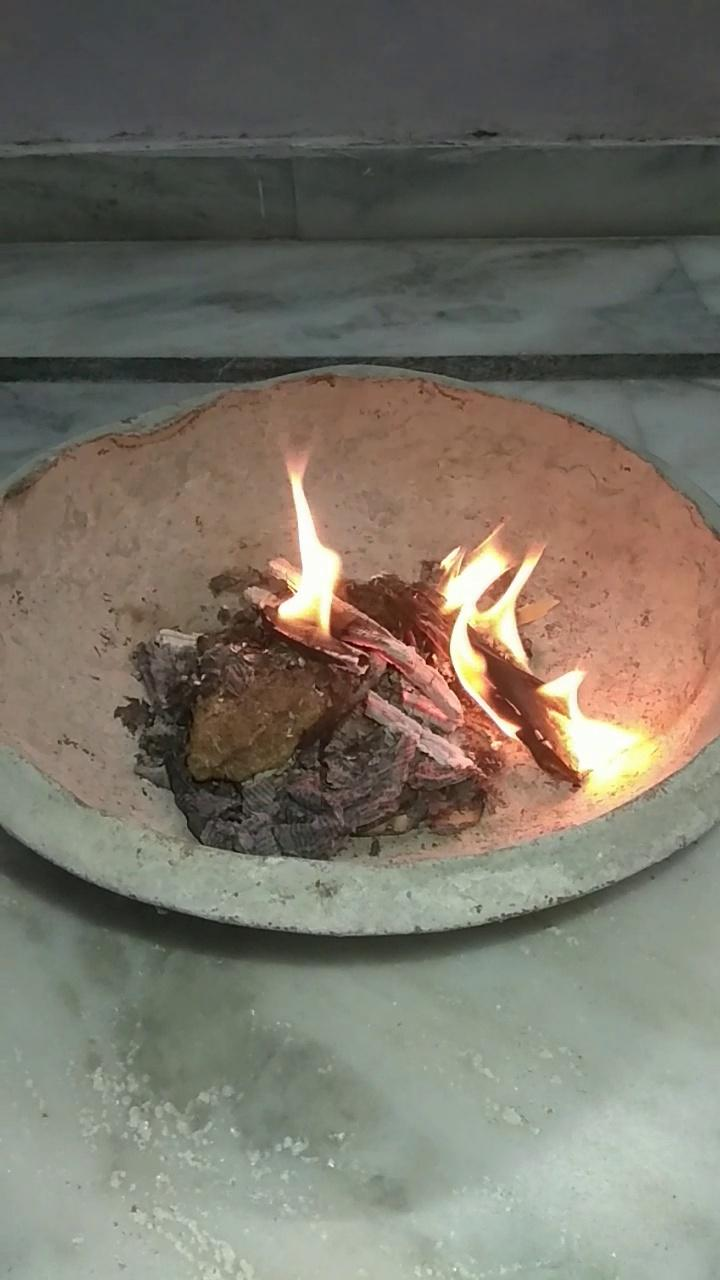fire: (246, 414, 654, 830)
